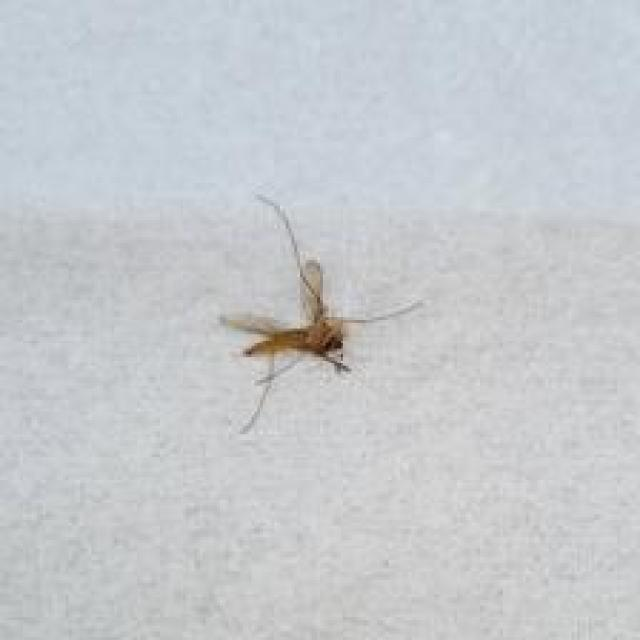Culex: (217, 192, 426, 434)
